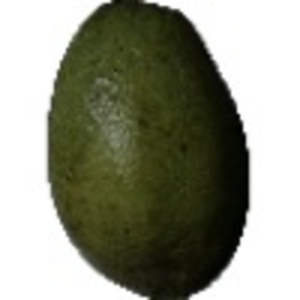abacate: (44, 2, 251, 293)
